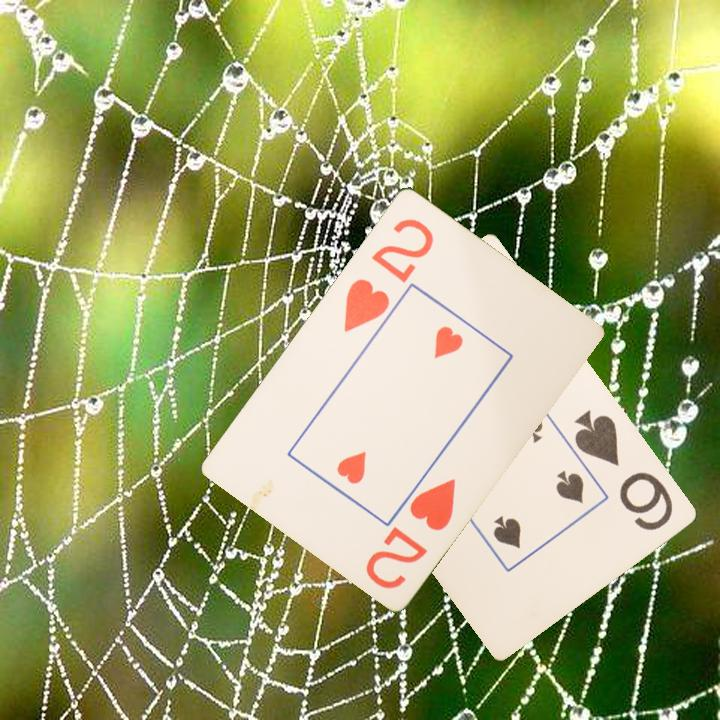2h: (339, 214, 437, 335), (361, 474, 459, 592)
6s: (571, 406, 677, 534)
